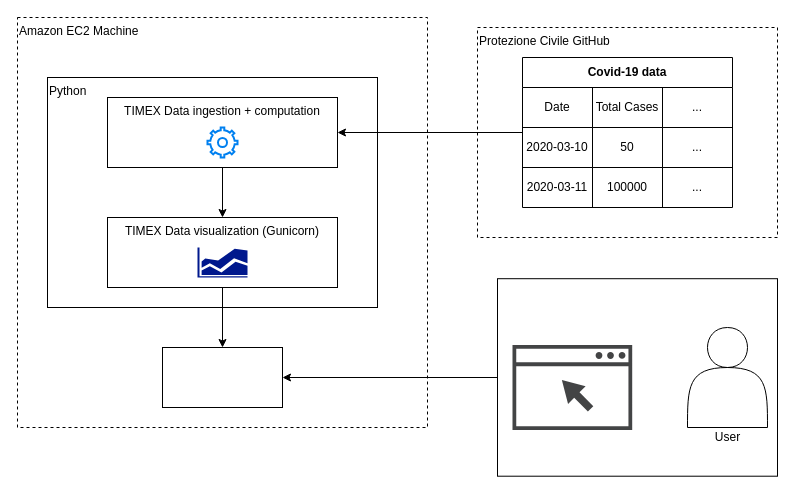
Image size: 795x494. Some labels were removed from this diagram. The centre of each missing label's shape, as x and y in pixels:
Caddy Webserver Reverse proxy + SSL: the point at 222,377
Web browser: the point at 572,387
